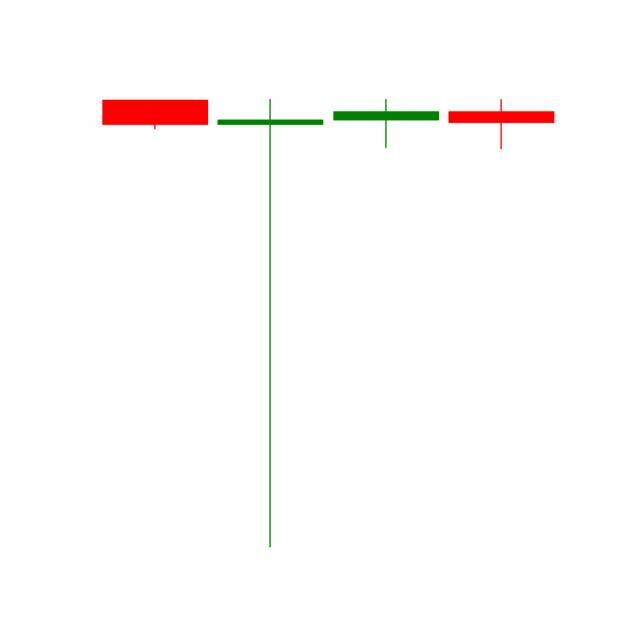Hanging Man: (329, 99, 445, 150)
